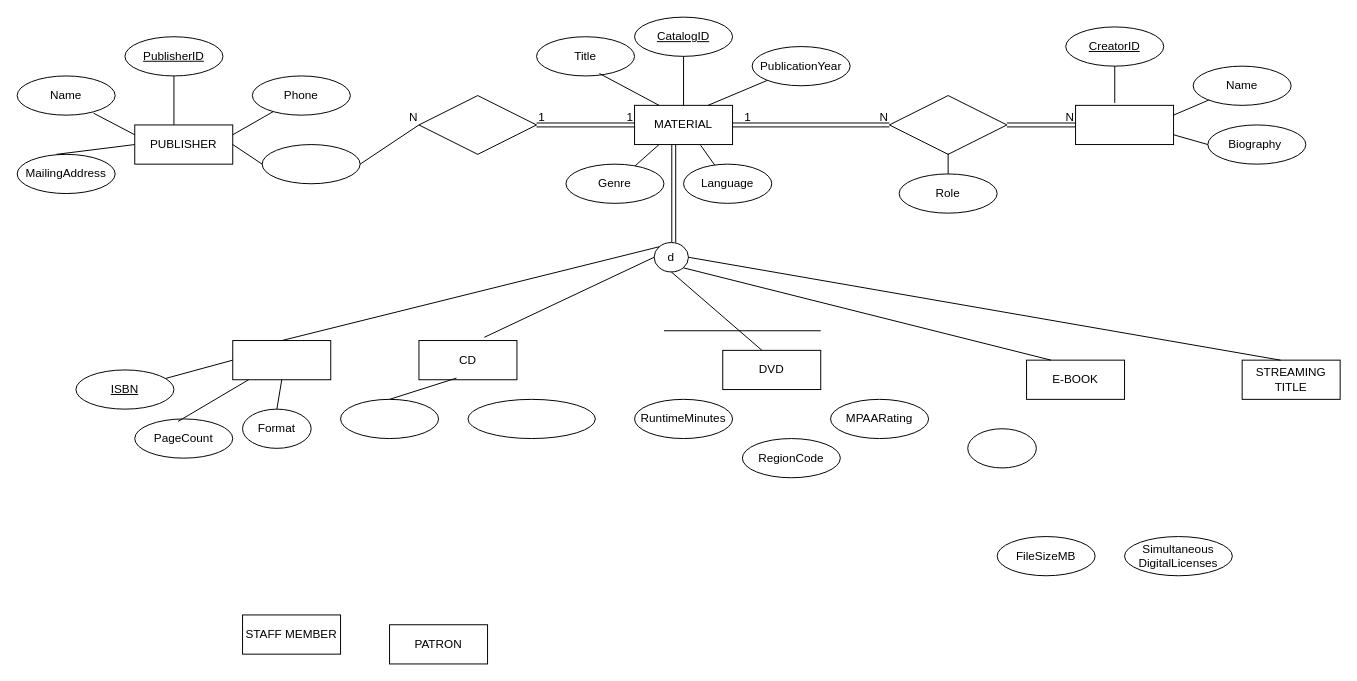
This 1357x681 diagram has some shape labels left out. The box of each missing label's shape, as (x1, y1, x2, y2) in pixels:
BOOK: (232, 340, 331, 380)
CREATES: (888, 95, 1007, 154)
CREATOR: (1075, 104, 1174, 145)
FileFormat: (967, 428, 1036, 468)
PUBLISHES: (418, 95, 537, 154)
TotalDurationMinutes: (467, 398, 595, 439)
TotalTrackCount: (340, 398, 439, 439)
Website: (261, 144, 360, 184)
